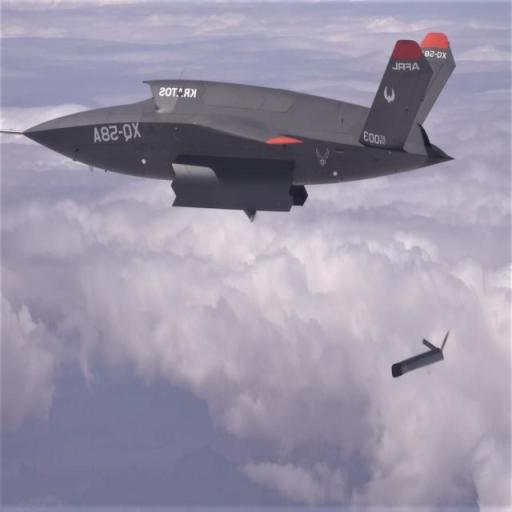uav: (10, 12, 476, 240)
